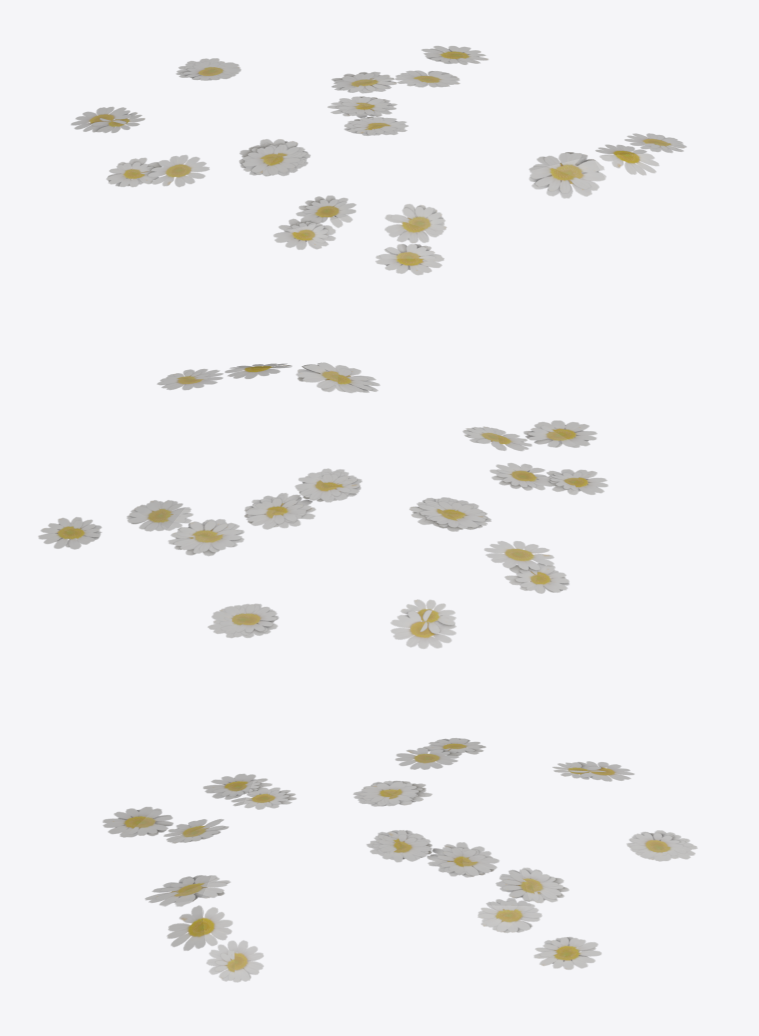
File: flowers-seperate2.glb
3 views of the same model, one above another, from view 1: azimuth 30°, elevation 25°; view 2: azimuth 150°, elevation 25°; view 3: azimuth 270°, elevation 25° (orthographic). The views are drawn at different scales.
Visible parts, largest first — view 1: Flowers-01; view 2: Flowers-01; view 3: Flowers-01.
Boxes of the visible parts, box(x1,y1,x2,y2) form: Flowers-01: box(71, 45, 686, 275); Flowers-01: box(38, 362, 608, 648); Flowers-01: box(102, 738, 697, 982).
Size of the model in its own units: 1.61 by 0.0962 by 1.61.
1 material, 1 textured.
